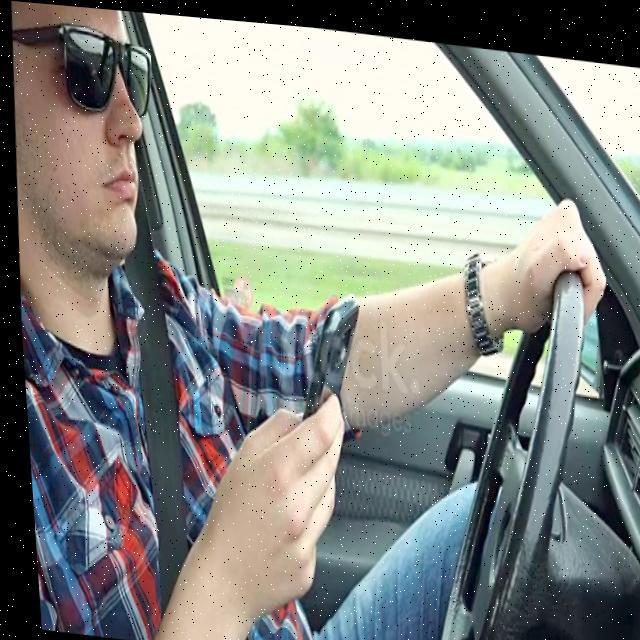PhoneCall: (286, 286, 364, 444)
